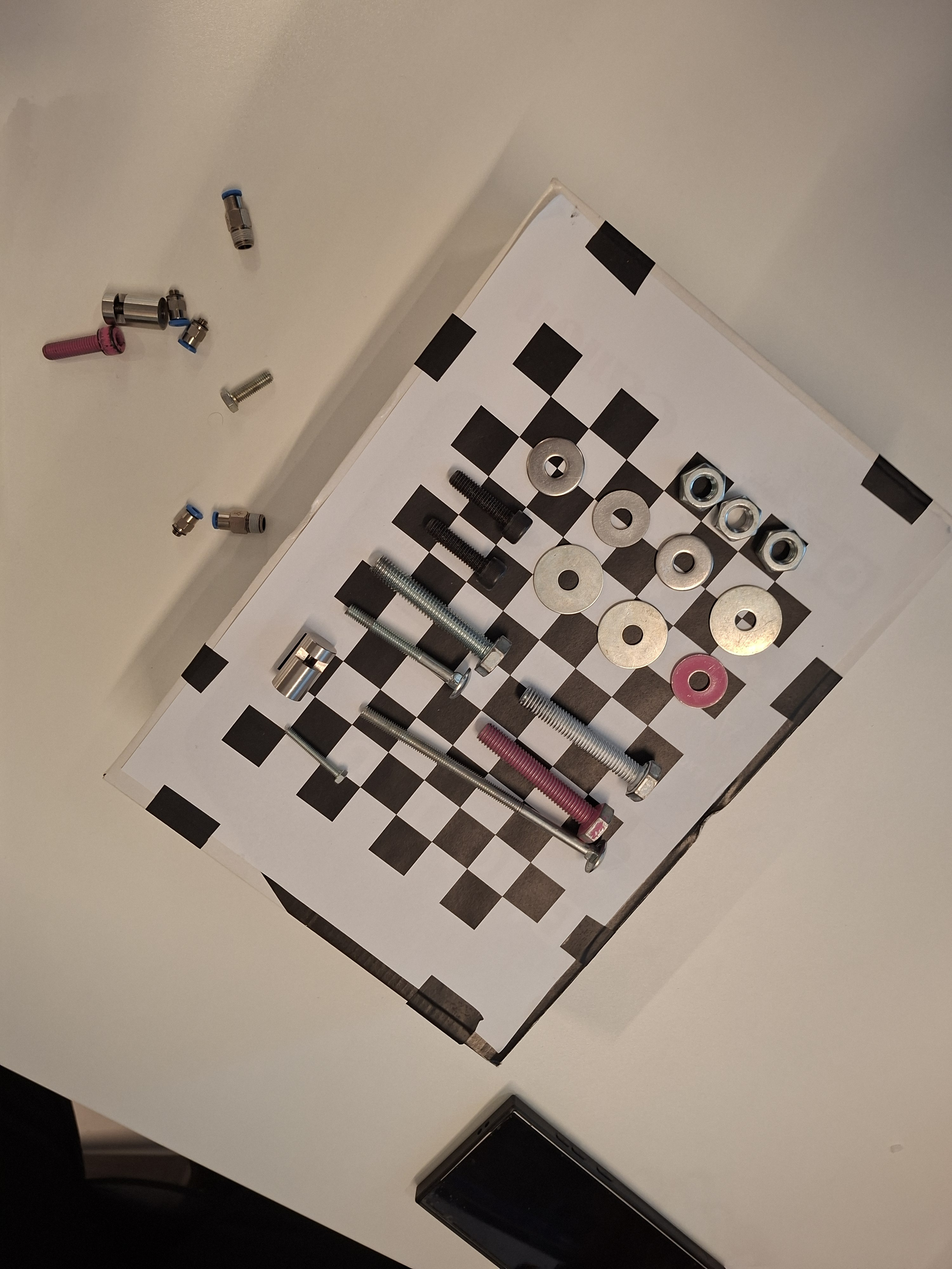allen_screw: (436, 455, 542, 551), (411, 505, 517, 600)
barrel_nut: (264, 620, 345, 711)
carriage_bolt: (348, 696, 619, 884), (333, 589, 479, 705)
hex_bolt: (506, 666, 673, 815), (456, 708, 623, 855), (354, 541, 521, 683), (274, 720, 354, 791)
hex_nut: (702, 481, 775, 555), (662, 450, 733, 523), (744, 515, 813, 584)
washer: (512, 523, 624, 636), (689, 563, 801, 674), (581, 582, 687, 688), (509, 419, 603, 513), (650, 634, 742, 725), (579, 474, 670, 565), (642, 519, 726, 605)
